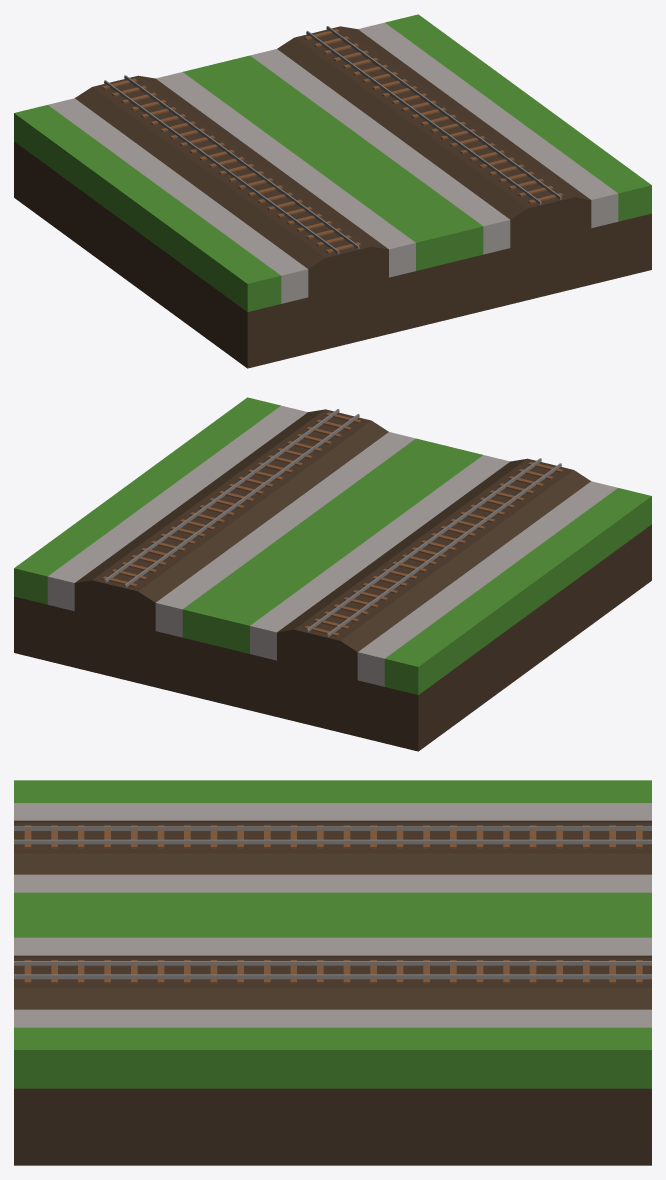
The model's file is tiles-tile-rail-straight-double.glb.
The picture shows the model from 3 angles, top to bottom: view 1: azimuth 30°, elevation 25°; view 2: azimuth 150°, elevation 25°; view 3: azimuth 270°, elevation 25°; orthographic projection. The views are drawn at different scales.
Visible parts, largest first — view 1: tile-rail-straight-double; view 2: tile-rail-straight-double; view 3: tile-rail-straight-double.
Part boxes in pixels (bbox=[...]): tile-rail-straight-double: bbox=[14, 14, 651, 368]; tile-rail-straight-double: bbox=[14, 397, 651, 751]; tile-rail-straight-double: bbox=[14, 780, 651, 1165].
Size of the model in its own units: 30 by 6.75 by 30.
